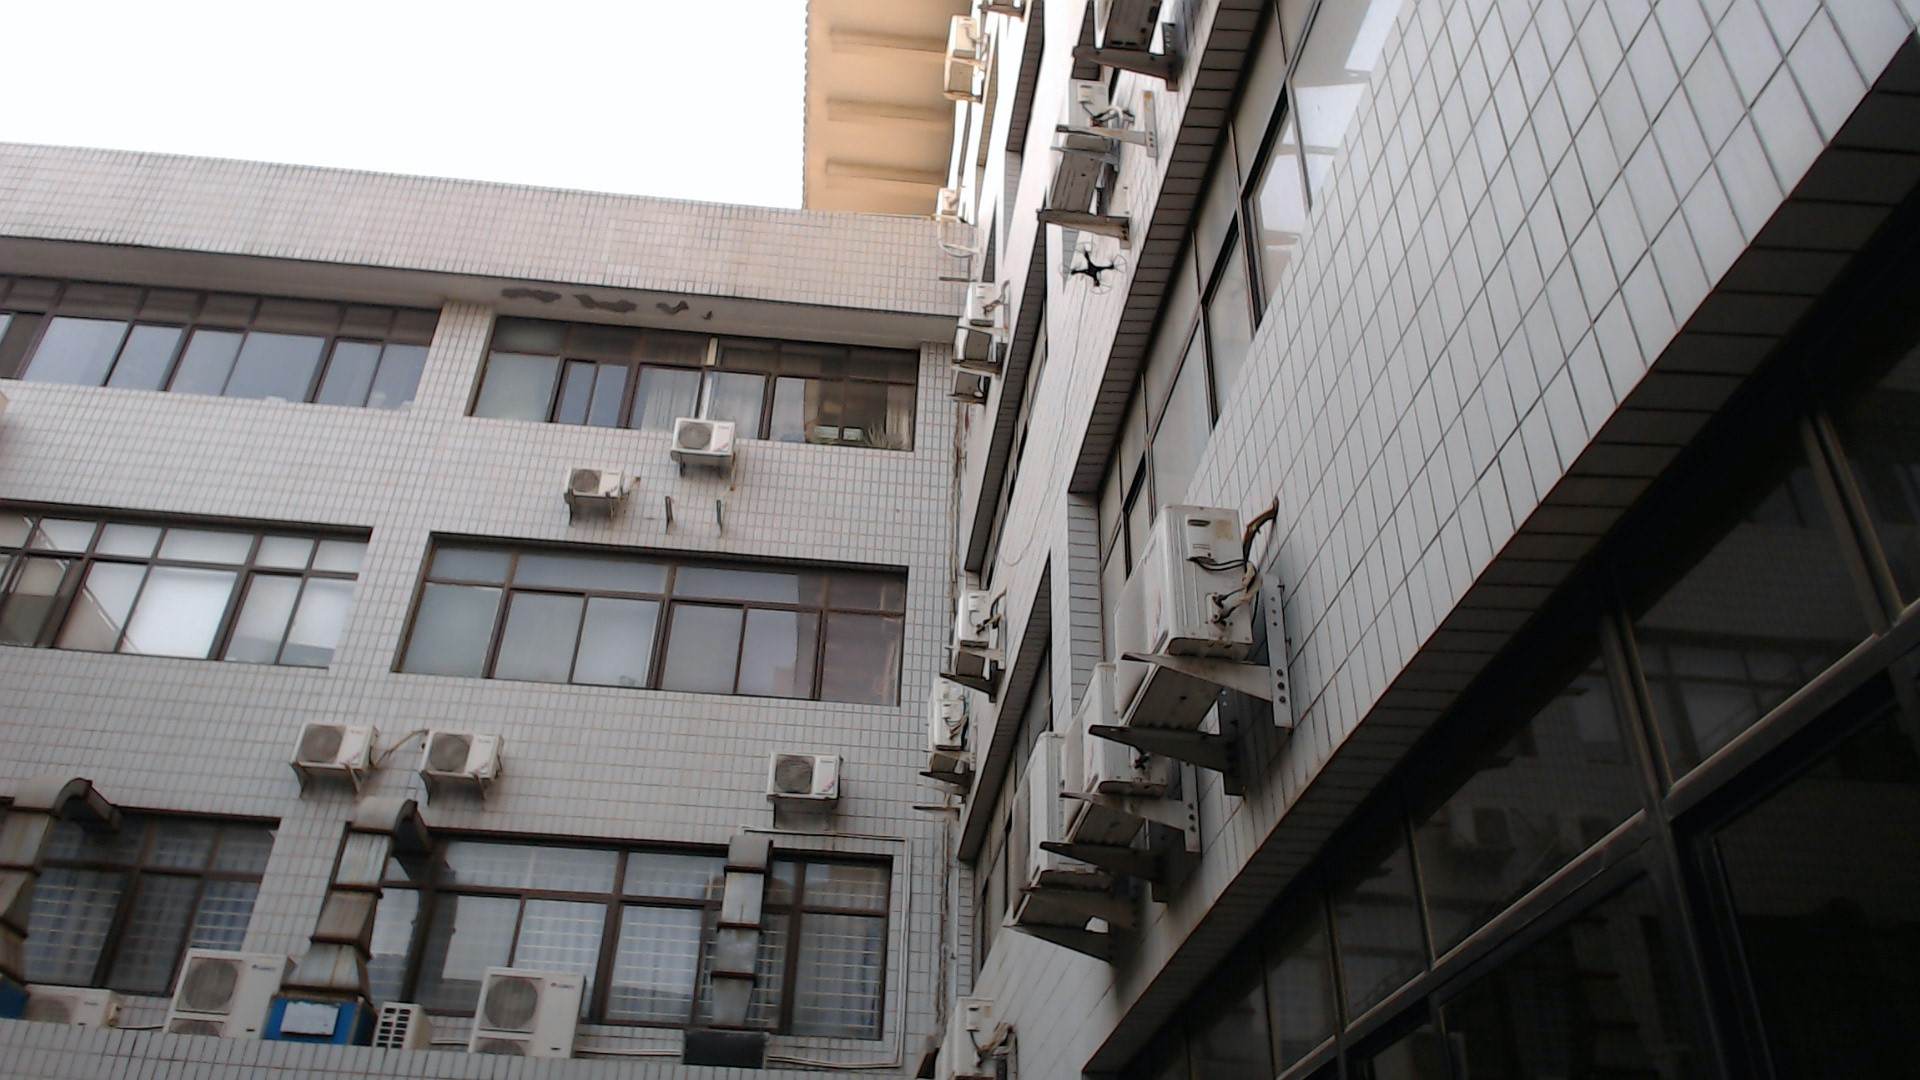drone: (1038, 222, 1156, 309)
